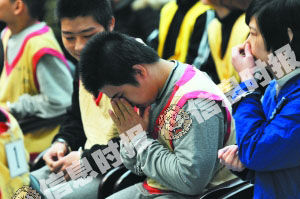face: (61, 17, 107, 63), (241, 12, 273, 69), (94, 78, 156, 106)
